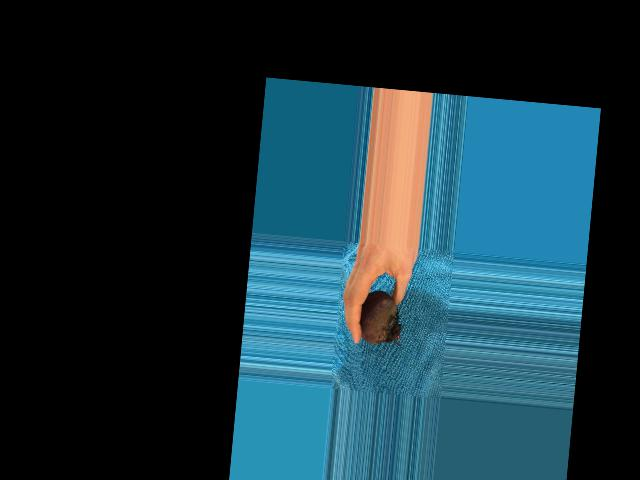beet: (358, 289, 405, 346)
